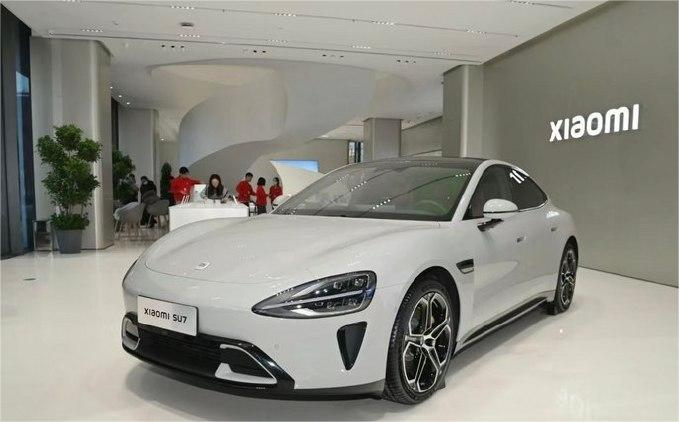su7: (120, 157, 588, 405)
